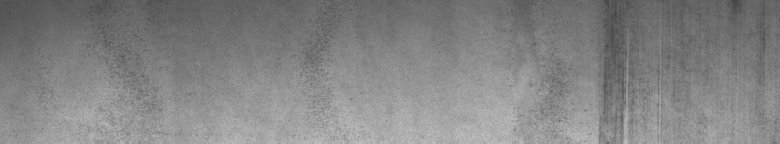ka: (551, 4, 644, 136)
